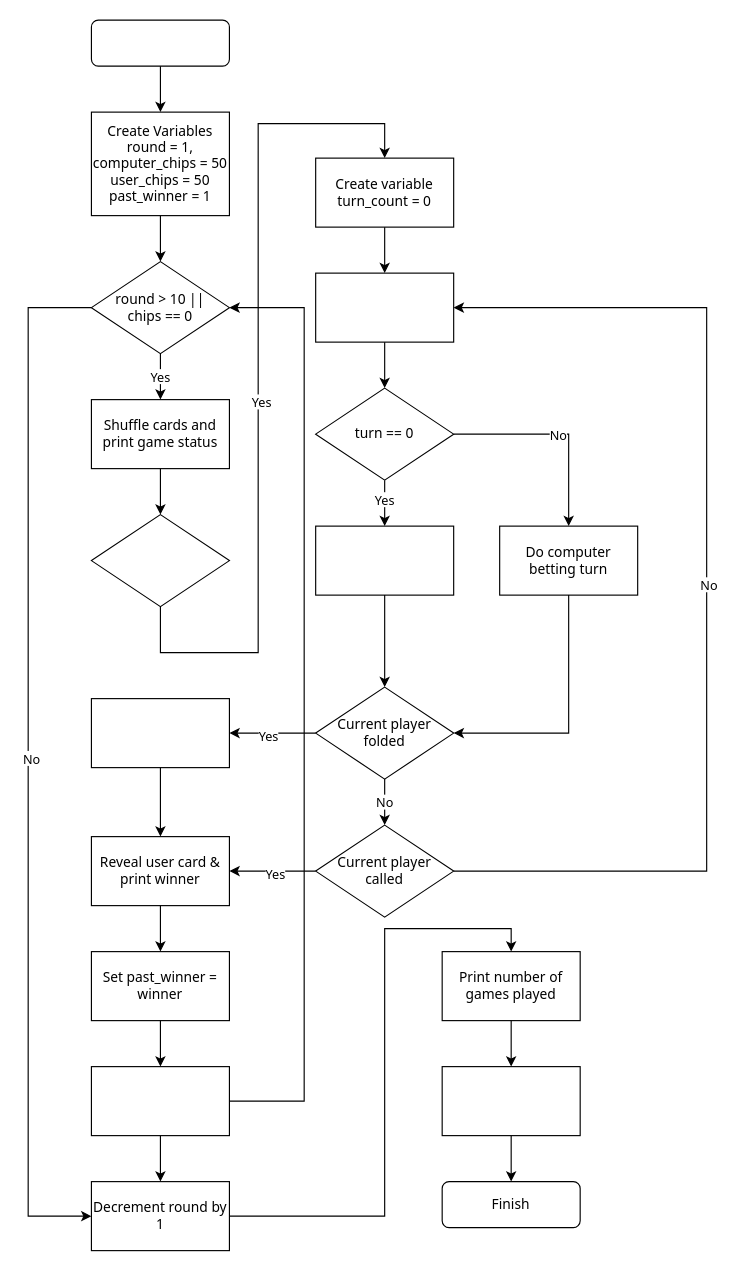
Some shapes in this 737 by 1271 pixel diagram are drawn without their labels. The centre of each missing label's shape, as x and y in pixels:
both players have more than one chip: (159,560)
Create variable turn = 1 - (past_winner + turn_count) % 2: (384,307)
Do user betting turn: (384,560)
Print chips left & increment round by 1: (159,1100)
Print remaining chips & winner: (510,1100)
Set winner to opponent: (159,732)
Start: (159,42)
